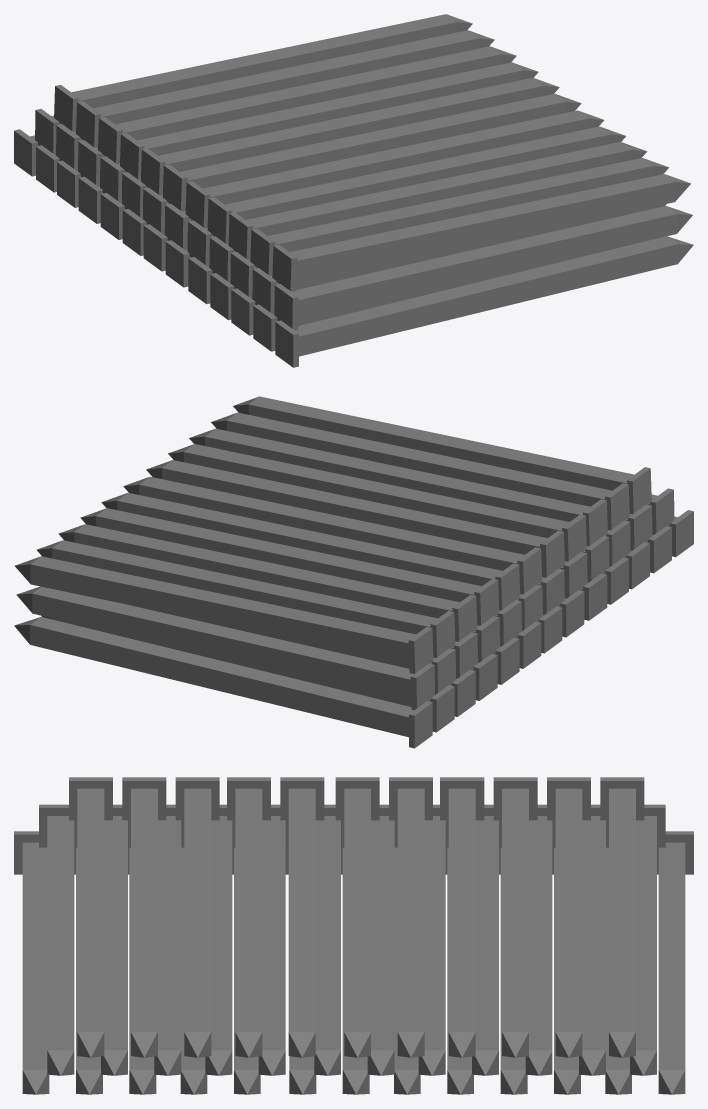
The model's file is Nails.fbx.
3 views of the same model, one above another, from view 1: azimuth 30°, elevation 25°; view 2: azimuth 150°, elevation 25°; view 3: azimuth 270°, elevation 25° (orthographic). The views are drawn at different scales.
Visible parts, largest first — view 1: Cube; view 2: Cube; view 3: Cube.
Boxes of the visible parts, x1=… form: Cube: x1=14, y1=14, x2=693, y2=367; Cube: x1=14, y1=396, x2=693, y2=748; Cube: x1=14, y1=777, x2=693, y2=1094.
Size of the model in its own units: 3.37 by 0.6545 by 3.8.
